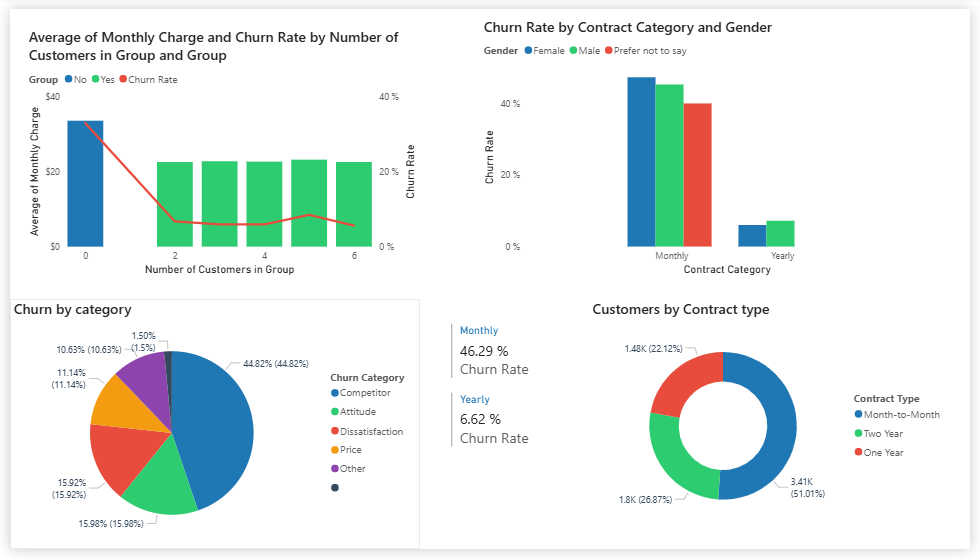

This screenshot's page, from the dashboard's own definition file:
{"tool":"powerbi","page":{"name":"Groups and Categories","canvas":[1280,720],"ordinal":4},"visuals":[{"type":"lineStackedColumnComboChart","fields":{"Category":["Databel - Data.Number of Customers in Group"],"Y":["Avg(Databel - Data.Monthly Charge)"],"Series":["Databel - Data.Group"],"Y2":["Databel - Data.Churn Rate"]},"box":[20.5,23.5,526.4,337.3],"z":0},{"type":"pieChart","title":"Churn by category","fields":{"Category":["Databel - Data.Churn Category"],"Y":["CountNonNull(Databel - Data.Churn Label)"]},"box":[0,387.1,547,332.9],"z":1000},{"type":"clusteredColumnChart","fields":{"Y":["Databel - Data.Churn Rate"],"Category":["Databel - Data.Contract Category"],"Series":["Databel - Data.Gender"]},"box":[626.2,10.3,601.2,350.5],"z":2000},{"type":"multiRowCard","fields":{"Values":["Databel - Data.Churn Rate","Databel - Data.Contract Category"]},"box":[583.6,415,242,209.7],"z":3000},{"type":"donutChart","title":"Customers by Contract type","fields":{"Y":["Count(Databel - Data.Customer ID)"],"Category":["Databel - Data.Contract Type"]},"box":[771.3,387.1,482.4,313.8],"z":4000}]}

Visuals, with their boxes in screenshot pixels (x1, y1, x2, y2), scaled from the page's 1280x720 canvas onto the 980x560 screenshot:
lineStackedColumnComboChart - Databel - Data.Number of Customers in Group x Avg(Databel - Data.Monthly Charge): region(16, 18, 419, 281)
"Churn by category" pieChart: region(0, 301, 419, 559)
clusteredColumnChart - Databel - Data.Churn Rate x Databel - Data.Contract Category: region(479, 8, 940, 281)
multiRowCard - Databel - Data.Churn Rate x Databel - Data.Contract Category: region(447, 323, 632, 486)
"Customers by Contract type" donutChart: region(591, 301, 960, 545)
